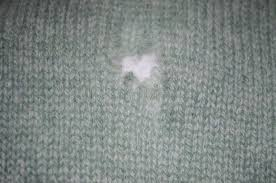Hole: (88, 34, 194, 111)
